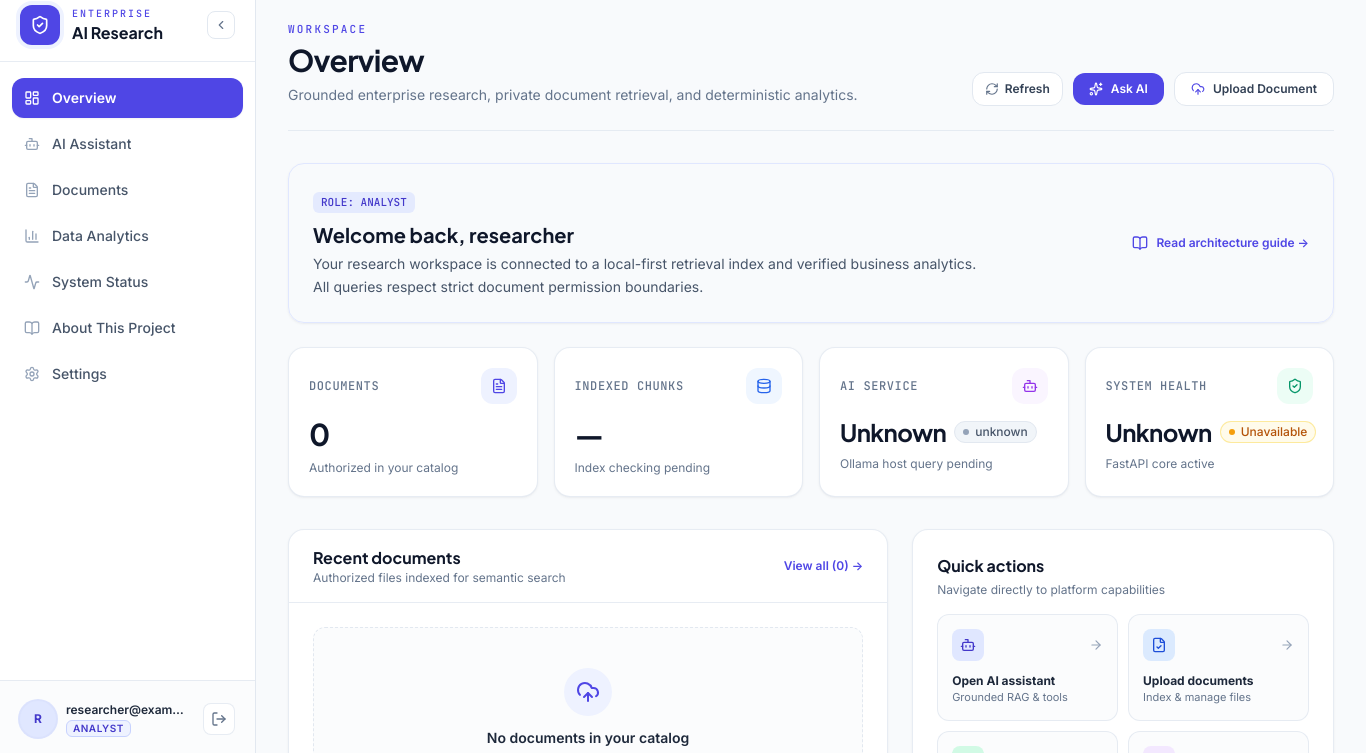
App shell › navigates to About This Project page when link is clicked
The width and height of the screenshot is (1366, 753).
What coordinates should you click on to do the following:
click the link "About This Project"
I would click on:
 (100, 328)
Its box is [24,319,176,336].
(page scrolled)
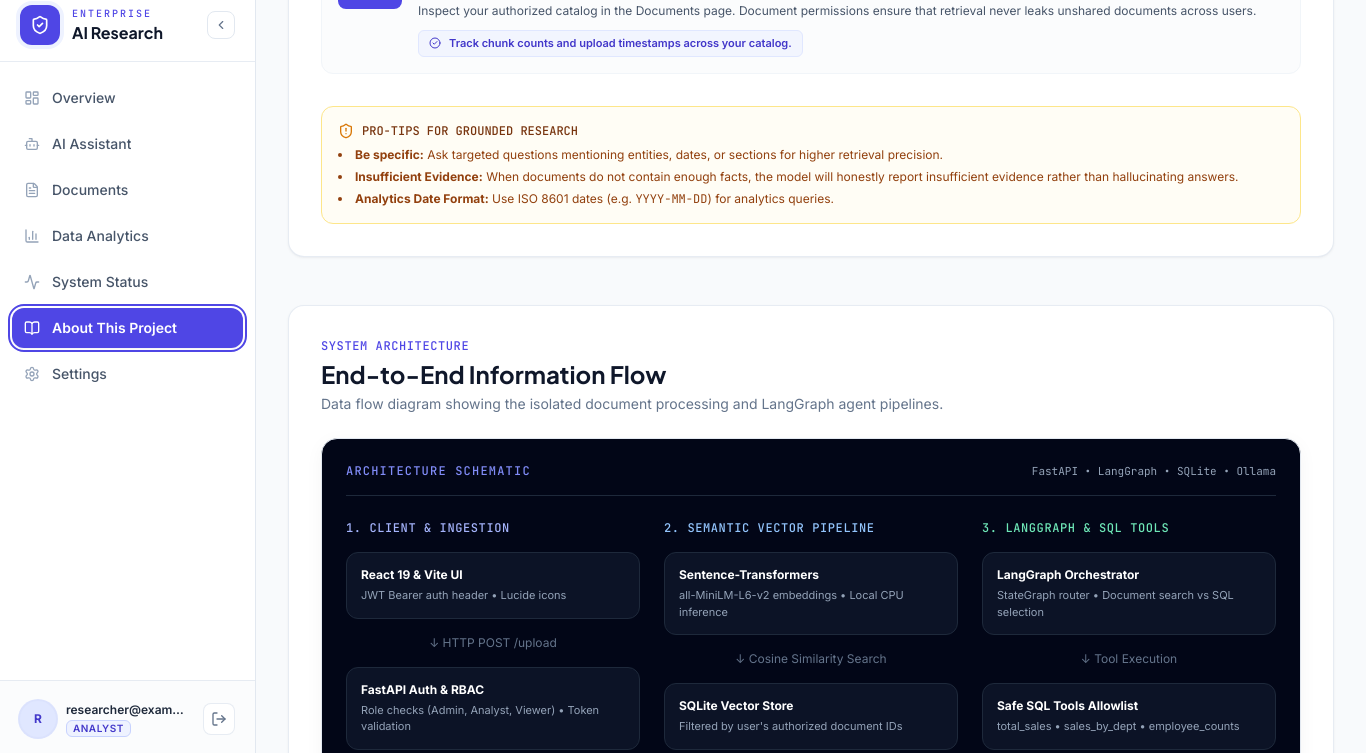
Now the heading "End-to-End Information Flow" is shown, box [321,358,666,388]
